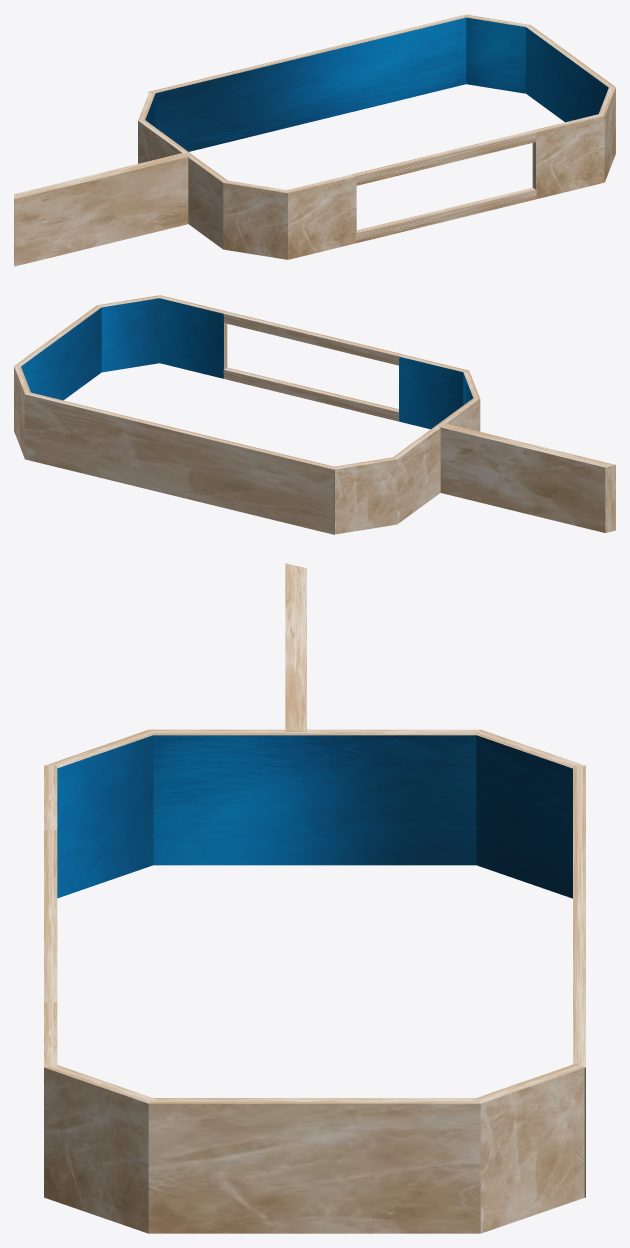
File: area_pinguinos.obj
3 renders of one model, top to bottom at view 1: azimuth 30°, elevation 25°; view 2: azimuth 150°, elevation 25°; view 3: azimuth 270°, elevation 25°, orthographic. The views are drawn at different scales.
Parts seen in each view (by area): view 1: pCube64; view 2: pCube64; view 3: pCube64.
Boxes of the visible parts, x1=… form: pCube64: x1=14, y1=14, x2=615, y2=266; pCube64: x1=14, y1=295, x2=615, y2=534; pCube64: x1=44, y1=563, x2=585, y2=1233.
Size of the model in its own units: 184 by 20.8 by 77.93.
Materials: 4 (3 with a texture image).
